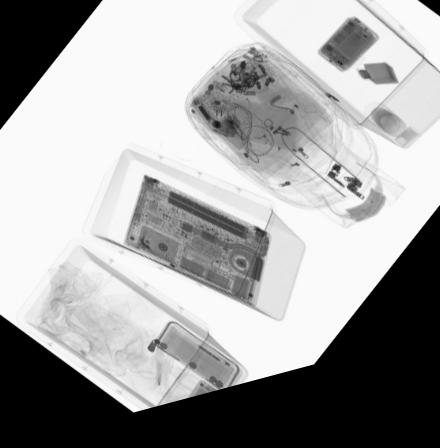Lighter: (209, 91, 235, 112)
